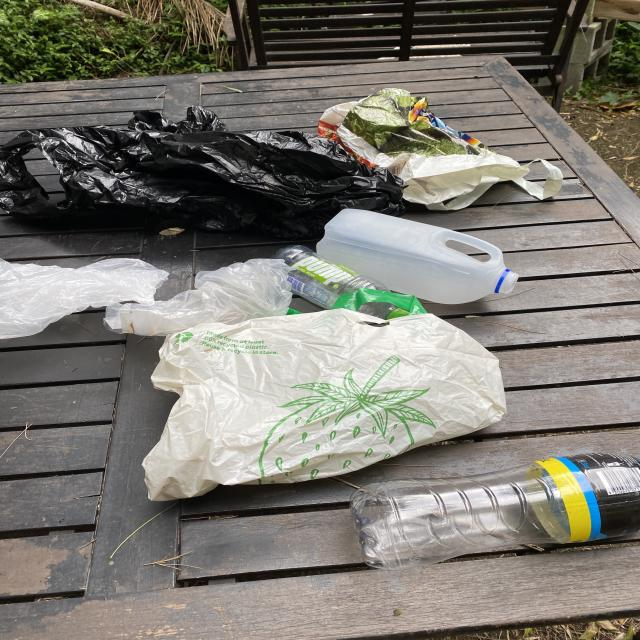bag: (141, 291, 506, 502), (0, 106, 405, 234), (318, 88, 563, 210), (103, 258, 292, 338), (0, 256, 169, 340)
bottle: (350, 452, 640, 570), (317, 208, 519, 304), (271, 245, 410, 320)
